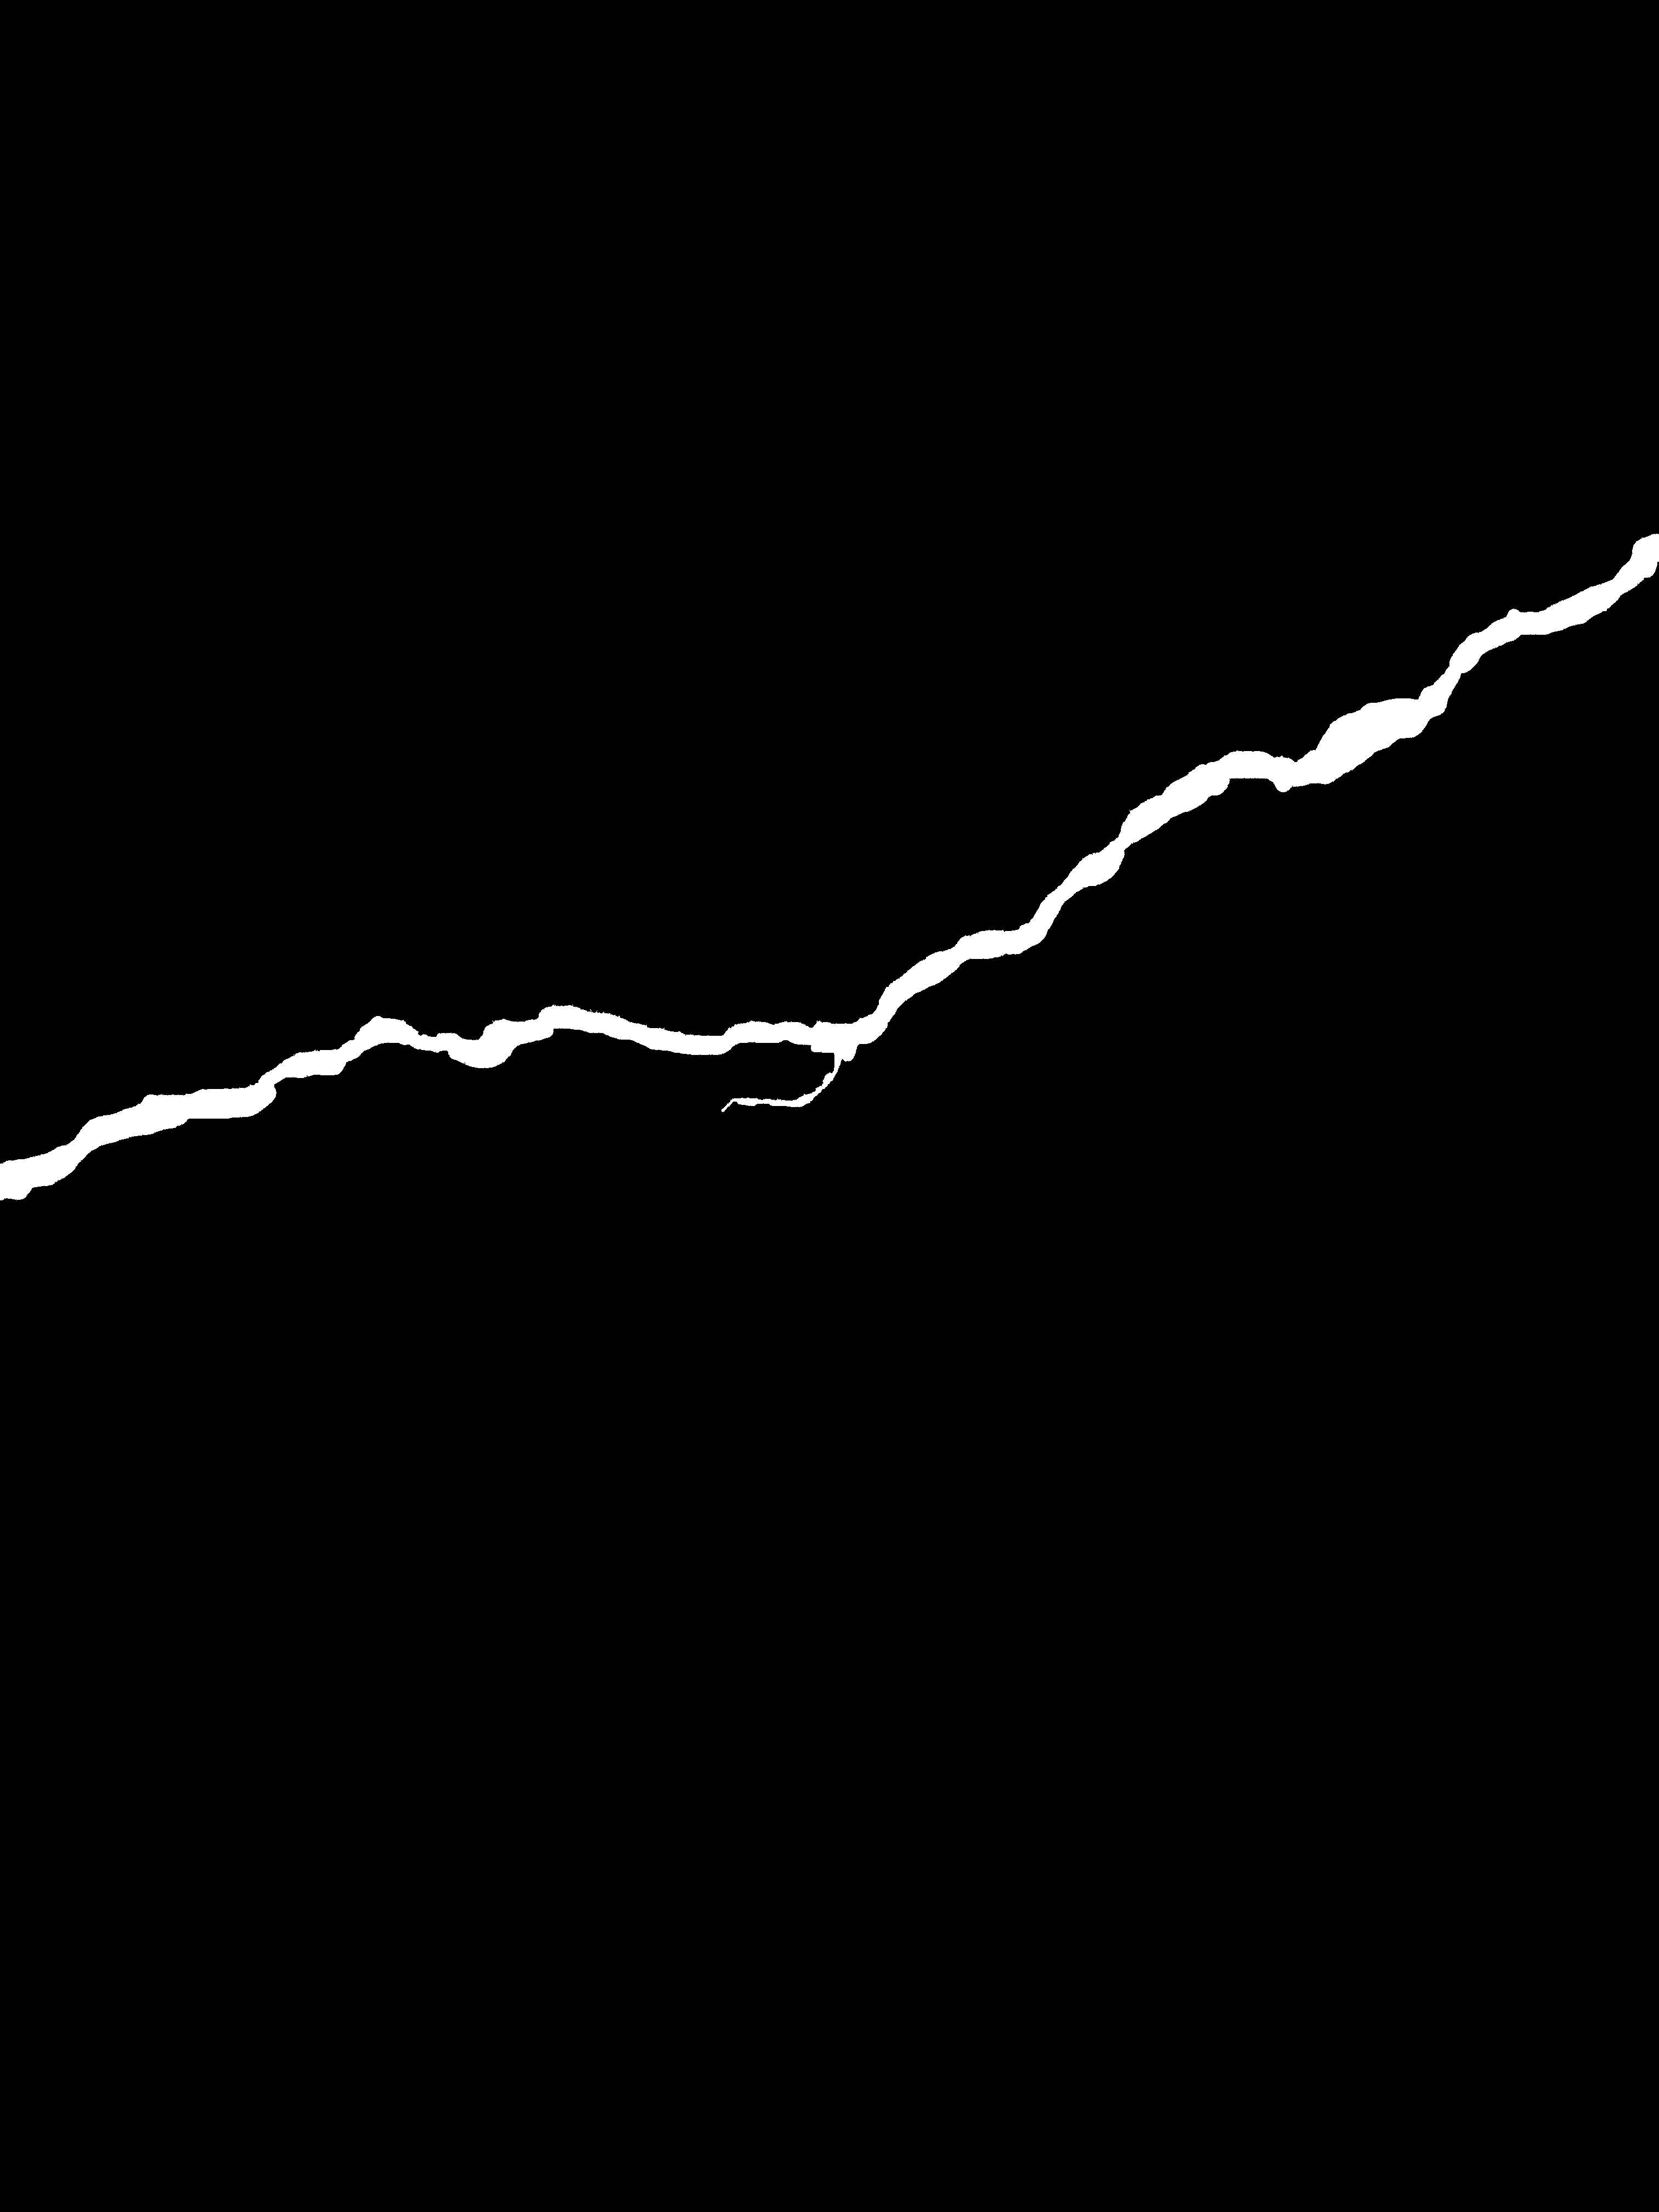Crack: (0, 503, 1659, 1244)
